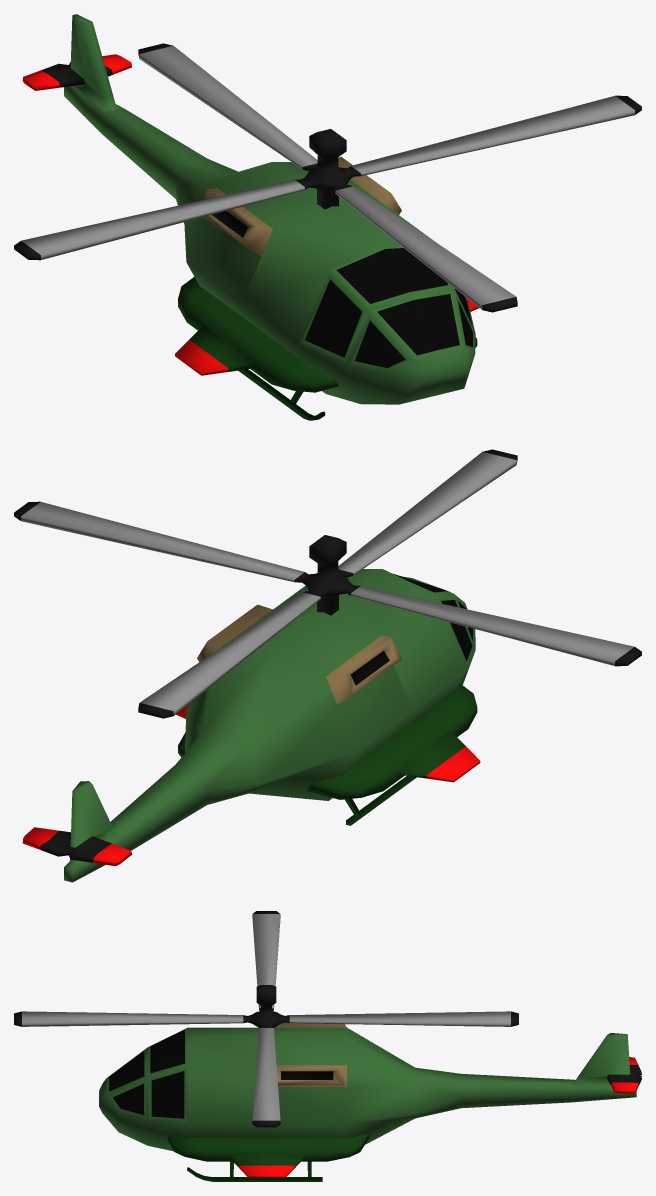
Rendered from Helicopter-01.fbx.
3 renders of one model, top to bottom at view 1: azimuth 30°, elevation 25°; view 2: azimuth 150°, elevation 25°; view 3: azimuth 270°, elevation 25°, orthographic. The views are drawn at different scales.
Parts seen in each view (by area): view 1: Cube, Helice; view 2: Cube, Helice; view 3: Cube, Helice.
Boxes of the visible parts, x1,y1,x2,y2 form: Cube: (22,14,478,420); Helice: (14,43,641,312); Cube: (22,569,480,882); Helice: (14,449,641,718); Cube: (99,1022,641,1181); Helice: (14,911,518,1127).
Size of what is drawn, in the model's own units: 17.26 by 6.52 by 21.46.
